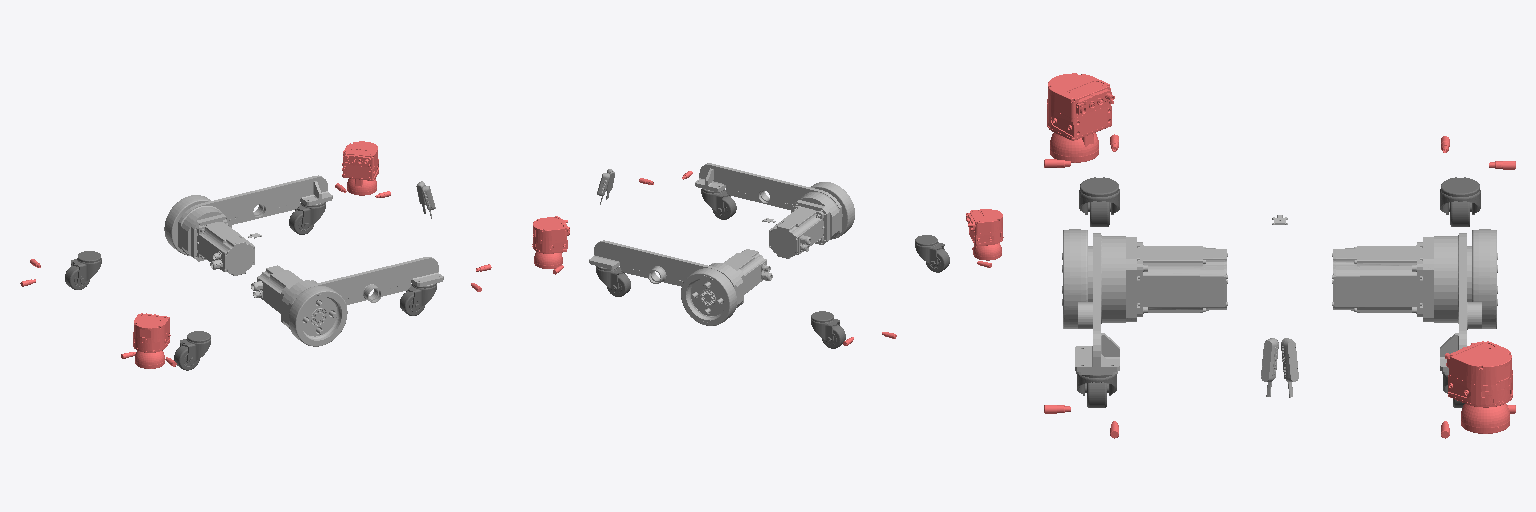
--- What the picture shows (computed from the rendered views, not written in the file) ---
Views: 3 orthographic renders of the robot side by side, from view 1: azimuth 30°, elevation 25°; view 2: azimuth 150°, elevation 25°; view 3: azimuth 270°, elevation 25°.
Robot: smr1000_description — 29 links, 28 joints (2 revolute, 10 continuous, 16 fixed); root link base_link; default pose: all joints at 0.
Links seen in each view (by area): view 1: swing_left_link, swing_right_link, wheel_right_link, lidar_rear_right_link, lidar_front_left_link, wheel_left_link, caster_arm_rear_right_link, caster_arm_rear_left_link; view 2: swing_right_link, swing_left_link, wheel_left_link, lidar_front_left_link, lidar_rear_right_link, wheel_right_link, caster_arm_rear_right_link, caster_arm_rear_left_link; view 3: swing_right_link, swing_left_link, lidar_front_left_link, lidar_rear_right_link, wheel_right_link, wheel_left_link, caster_arm_rear_left_link, caster_arm_rear_right_link, depthcam_front_left_link, depthcam_front_right_link, caster_arm_front_right_link.
Link boxes in pixels (box(x1,y1,x2,y2)): swing_left_link: box(178, 175, 332, 275); swing_right_link: box(251, 257, 443, 328); wheel_right_link: box(289, 286, 347, 346); lidar_rear_right_link: box(133, 313, 170, 368); lidar_front_left_link: box(342, 141, 378, 195); wheel_left_link: box(164, 195, 210, 255); caster_arm_rear_right_link: box(180, 331, 210, 364); caster_arm_rear_left_link: box(71, 251, 101, 284); swing_right_link: box(695, 163, 841, 258); swing_left_link: box(589, 240, 772, 309); wheel_left_link: box(681, 268, 736, 325); lidar_front_left_link: box(532, 216, 569, 268); lidar_rear_right_link: box(966, 209, 1003, 260); wheel_right_link: box(811, 182, 854, 238); caster_arm_rear_right_link: box(915, 235, 944, 266); caster_arm_rear_left_link: box(811, 311, 839, 343); swing_right_link: box(1075, 233, 1227, 374); swing_left_link: box(1332, 233, 1481, 374); lidar_front_left_link: box(1445, 341, 1512, 433); lidar_rear_right_link: box(1047, 73, 1114, 162); wheel_right_link: box(1062, 229, 1087, 328); wheel_left_link: box(1472, 229, 1497, 328); caster_arm_rear_left_link: box(1440, 177, 1480, 214); caster_arm_rear_right_link: box(1079, 177, 1119, 214); depthcam_front_left_link: box(1281, 338, 1298, 397); depthcam_front_right_link: box(1261, 338, 1278, 396); caster_arm_front_right_link: box(1077, 374, 1116, 395).
Size in the robot's own frame: 1.4 by 0.94 by 0.266 metres.
Meshes: 26 distinct files referenced, 25 mesh visuals loaded (25 binary STL); not drawn: 1 (reference not matched to a file when rendering).

URDF robot description (smr1000_description):
<?xml version="1.0" encoding="utf-8"?>
<!-- This URDF was automatically created by SolidWorks to URDF Exporter! Originally created by Stephen Brawner ([email redacted]) 
     Commit Version: 1.6.0-4-g7f85cfe  Build Version: 1.6.7995.38578
     For more information, please see http://wiki.ros.org/sw_urdf_exporter -->
<robot
  name="smr1000_description">
  <link
    name="base_link">
    <inertial>
      <origin
        xyz="-0.0653513068168296 0.00948609134574523 0.175579356834395"
        rpy="0 0 0" />
      <mass
        value="68.6102338369016" />
      <inertia
        ixx="1.00754057887286"
        ixy="0.00041340404807901"
        ixz="0.000216201033298126"
        iyy="3.29228934484251"
        iyz="3.79978600731642E-05"
        izz="4.23027118253916" />
    </inertial>
    <visual>
      <origin
        xyz="0 0 0"
        rpy="0 0 0" />
      <geometry>
        <mesh
          filename="package://smr1000_description/meshes/base_link.STL" />
      </geometry>
      <material
        name="">
        <color
          rgba="0.792156862745098 0.819607843137255 0.933333333333333 1" />
      </material>
    </visual>
    <collision>
      <origin
        xyz="0 0 0"
        rpy="0 0 0" />
      <geometry>
        <mesh
          filename="package://smr1000_description/meshes/base_link.STL" />
      </geometry>
    </collision>
  </link>
  <link
    name="swing_right_link">
    <inertial>
      <origin
        xyz="-0.176347650188863 0.00440389227080025 -0.300793675091469"
        rpy="0 0 0" />
      <mass
        value="25.0168854199356" />
      <inertia
        ixx="0.0682466016837255"
        ixy="-0.00949922807571882"
        ixz="-9.30065521097321E-05"
        iyy="0.172623060051642"
        iyz="-4.59700602586555E-06"
        izz="0.197181082598249" />
    </inertial>
    <visual>
      <origin
        xyz="0 0 0"
        rpy="0 0 0" />
      <geometry>
        <mesh
          filename="package://smr1000_description/meshes/swing_right_link.STL" />
      </geometry>
      <material
        name="">
        <color
          rgba="0.752941176470588 0.752941176470588 0.752941176470588 1" />
      </material>
    </visual>
    <collision>
      <origin
        xyz="0 0 0"
        rpy="0 0 0" />
      <geometry>
        <mesh
          filename="package://smr1000_description/meshes/swing_right_link.STL" />
      </geometry>
    </collision>
  </link>
  <joint
    name="swing_right_joint"
    type="revolute">
    <origin
      xyz="0.22 -0.3799 0.1223"
      rpy="1.5708 0 0" />
    <parent
      link="base_link" />
    <child
      link="swing_right_link" />
    <axis
      xyz="0 0 -1" />
    <limit
      lower="-0.5236"
      upper="0.5236"
      effort="0"
      velocity="0" />
  </joint>
  <link
    name="wheel_right_link">
    <inertial>
      <origin
        xyz="-1.89360408194331E-07 5.32318273128995E-06 -0.00123251961550358"
        rpy="0 0 0" />
      <mass
        value="7.69591298907116" />
      <inertia
        ixx="0.0241713576513514"
        ixy="1.19672901117117E-07"
        ixz="3.40566483541933E-08"
        iyy="0.0241679260711374"
        iyz="-1.02517453763162E-06"
        izz="0.0461678453168516" />
    </inertial>
    <visual>
      <origin
        xyz="0 0 0"
        rpy="0 0 0" />
      <geometry>
        <mesh
          filename="package://smr1000_description/meshes/wheel_right_link.STL" />
      </geometry>
      <material
        name="">
        <color
          rgba="0.752941176470588 0.752941176470588 0.752941176470588 1" />
      </material>
    </visual>
    <collision>
      <origin
        xyz="0 0 0"
        rpy="0 0 0" />
      <geometry>
        <mesh
          filename="package://smr1000_description/meshes/wheel_right_link.STL" />
      </geometry>
    </collision>
  </link>
  <joint
    name="wheel_right_joint"
    type="continuous">
    <origin
      xyz="-0.22 -0.0225 0.0285"
      rpy="0 0 0" />
    <parent
      link="swing_right_link" />
    <child
      link="wheel_right_link" />
    <axis
      xyz="0 0 -1" />
    <limit
      effort="100"
      velocity="20" />
  </joint>
  <link
    name="caster_arm_front_right_link">
    <inertial>
      <origin
        xyz="-0.0155555617039367 -0.000178963669494714 0.0281895860641981"
        rpy="0 0 0" />
      <mass
        value="1.25269802738413" />
      <inertia
        ixx="0.00100221826493282"
        ixy="-4.97387950814633E-08"
        ixz="0.000216362342476403"
        iyy="0.000957690978837859"
        iyz="5.5425881475455E-08"
        izz="0.00123742855747407" />
    </inertial>
    <visual>
      <origin
        xyz="0 0 0"
        rpy="0 0 0" />
      <geometry>
        <mesh
          filename="package://smr1000_description/meshes/caster_arm_front_right_link.STL" />
      </geometry>
      <material
        name="">
        <color
          rgba="0.501960784313725 0.501960784313725 0.501960784313725 1" />
      </material>
    </visual>
    <collision>
      <origin
        xyz="0 0 0"
        rpy="0 0 0" />
      <geometry>
        <mesh
          filename="package://smr1000_description/meshes/caster_arm_front_right_link.STL" />
      </geometry>
    </collision>
  </link>
  <joint
    name="caster_arm_front_right_joint"
    type="continuous">
    <origin
      xyz="0.20999986644946 -0.0138199999999889 -0.0149995745198013"
      rpy="1.57079632679491 0 0" />
    <parent
      link="swing_right_link" />
    <child
      link="caster_arm_front_right_link" />
    <axis
      xyz="0 0 1" />
  </joint>
  <link
    name="caster_wheel_front_right_link">
    <inertial>
      <origin
        xyz="5.22706102568105E-07 -7.27056550867133E-08 -3.43081149989377E-07"
        rpy="0 0 0" />
      <mass
        value="1.44285896681486" />
      <inertia
        ixx="0.000795470204249507"
        ixy="9.7830862267861E-10"
        ixz="1.63526977773804E-08"
        iyy="0.000795524588628693"
        iyz="-2.05415020657229E-09"
        izz="0.00122117998887139" />
    </inertial>
    <visual>
      <origin
        xyz="0 0 0"
        rpy="0 0 0" />
      <geometry>
        <mesh
          filename="package://smr1000_description/meshes/caster_wheel_front_right_link.STL" />
      </geometry>
      <material
        name="">
        <color
          rgba="0.501960784313725 0.501960784313725 0.501960784313725 1" />
      </material>
    </visual>
    <collision>
      <origin
        xyz="0 0 0"
        rpy="0 0 0" />
      <geometry>
        <mesh
          filename="package://smr1000_description/meshes/caster_wheel_front_right_link.STL" />
      </geometry>
    </collision>
  </link>
  <joint
    name="caster_wheel_front_right_joint"
    type="continuous">
    <origin
      xyz="-0.0449998664494292 0 0.0684800000000012"
      rpy="-1.5707963267949 0 0" />
    <parent
      link="caster_arm_front_right_link" />
    <child
      link="caster_wheel_front_right_link" />
    <axis
      xyz="0 0 1" />
  </joint>
  <link
    name="caster_arm_rear_right_link">
    <inertial>
      <origin
        xyz="-0.0155555617039297 -0.000178963669520582 0.0281895860641979"
        rpy="0 0 0" />
      <mass
        value="1.25269802738413" />
      <inertia
        ixx="0.00100221826493282"
        ixy="-4.97387949983293E-08"
        ixz="0.000216362342476399"
        iyy="0.00095769097883786"
        iyz="5.54258818883207E-08"
        izz="0.00123742855747408" />
    </inertial>
    <visual>
      <origin
        xyz="0 0 0"
        rpy="0 0 0" />
      <geometry>
        <mesh
          filename="package://smr1000_description/meshes/caster_arm_rear_right_link.STL" />
      </geometry>
      <material
        name="">
        <color
          rgba="0.501960784313725 0.501960784313725 0.501960784313725 1" />
      </material>
    </visual>
    <collision>
      <origin
        xyz="0 0 0"
        rpy="0 0 0" />
      <geometry>
        <mesh
          filename="package://smr1000_description/meshes/caster_arm_rear_right_link.STL" />
      </geometry>
    </collision>
  </link>
  <joint
    name="caster_arm_rear_right_joint"
    type="continuous">
    <origin
      xyz="-0.425000133550558 -0.360000425480045 0.108280000000031"
      rpy="3.14159265358979 0 0" />
    <parent
      link="base_link" />
    <child
      link="caster_arm_rear_right_link" />
    <axis
      xyz="0 0 1" />
  </joint>
  <link
    name="caster_wheel_rear_right_link">
    <inertial>
      <origin
        xyz="5.22706269046047E-07 -7.27055614602179E-08 -3.43081175468996E-07"
        rpy="0 0 0" />
      <mass
        value="1.44285896681486" />
      <inertia
        ixx="0.00079547020424951"
        ixy="9.78308624551728E-10"
        ixz="1.63526963921423E-08"
        iyy="0.000795524588628698"
        iyz="-2.05415021177103E-09"
        izz="0.0012211799888714" />
    </inertial>
    <visual>
      <origin
        xyz="0 0 0"
        rpy="0 0 0" />
      <geometry>
        <mesh
          filename="package://smr1000_description/meshes/caster_wheel_rear_right_link.STL" />
      </geometry>
      <material
        name="">
        <color
          rgba="0.501960784313725 0.501960784313725 0.501960784313725 1" />
      </material>
    </visual>
    <collision>
      <origin
        xyz="0 0 0"
        rpy="0 0 0" />
      <geometry>
        <mesh
          filename="package://smr1000_description/meshes/caster_wheel_rear_right_link.STL" />
      </geometry>
    </collision>
  </link>
  <joint
    name="caster_wheel_rear_right_joint"
    type="continuous">
    <origin
      xyz="-0.0449998664494387 0 0.0684800000000013"
      rpy="-1.5707963267949 0 0" />
    <parent
      link="caster_arm_rear_right_link" />
    <child
      link="caster_wheel_rear_right_link" />
    <axis
      xyz="0 0 1" />
  </joint>
  <link
    name="swing_left_link">
    <inertial>
      <origin
        xyz="-0.145737324025481 -0.00429423142705054 -0.0146676077458625"
        rpy="0 0 0" />
      <mass
        value="34.2220050178526" />
      <inertia
        ixx="0.0869972530035693"
        ixy="0.0191225202017814"
        ixz="-0.000118555323432275"
        iyy="0.293111035161583"
        iyz="-1.15917243083435E-06"
        izz="0.333894919135107" />
    </inertial>
    <visual>
      <origin
        xyz="0 0 0"
        rpy="0 0 0" />
      <geometry>
        <mesh
          filename="package://smr1000_description/meshes/swing_left_link.STL" />
      </geometry>
      <material
        name="">
        <color
          rgba="0.752941176470588 0.752941176470588 0.752941176470588 1" />
      </material>
    </visual>
    <collision>
      <origin
        xyz="0 0 0"
        rpy="0 0 0" />
      <geometry>
        <mesh
          filename="package://smr1000_description/meshes/swing_left_link.STL" />
      </geometry>
    </collision>
  </link>
  <joint
    name="swing_left_joint"
    type="revolute">
    <origin
      xyz="0.22 0.3799 0.1223"
      rpy="-1.5708 0 0" />
    <parent
      link="base_link" />
    <child
      link="swing_left_link" />
    <axis
      xyz="0 0 1" />
    <limit
      lower="-0.5236"
      upper="0.5236"
      effort="0"
      velocity="0" />
  </joint>
  <link
    name="wheel_left_link">
    <inertial>
      <origin
        xyz="-1.89360408143877E-07 5.32318273170629E-06 -0.00123251961550752"
        rpy="0 0 0" />
      <mass
        value="7.69591298907121" />
      <inertia
        ixx="0.0241713576513516"
        ixy="1.19672901089617E-07"
        ixz="3.40566483462889E-08"
        iyy="0.0241679260711376"
        iyz="-1.02517453763785E-06"
        izz="0.0461678453168519" />
    </inertial>
    <visual>
      <origin
        xyz="0 0 0"
        rpy="0 0 0" />
      <geometry>
        <mesh
          filename="package://smr1000_description/meshes/wheel_left_link.STL" />
      </geometry>
      <material
        name="">
        <color
          rgba="0.752941176470588 0.752941176470588 0.752941176470588 1" />
      </material>
    </visual>
    <collision>
      <origin
        xyz="0 0 0"
        rpy="0 0 0" />
      <geometry>
        <mesh
          filename="package://smr1000_description/meshes/wheel_left_link.STL" />
      </geometry>
    </collision>
  </link>
  <joint
    name="wheel_left_joint"
    type="continuous">
    <origin
      xyz="-0.22 0.0225 0.0285"
      rpy="0 0 3.1416" />
    <parent
      link="swing_left_link" />
    <child
      link="wheel_left_link" />
    <axis
      xyz="0 0 1" />
    <limit
      effort="100"
      velocity="20" />
  </joint>
  <link
    name="caster_arm_front_left_link">
    <inertial>
      <origin
        xyz="-0.015555561703935 -0.000178963669518362 0.0281895860641979"
        rpy="0 0 0" />
      <mass
        value="1.25269802738414" />
      <inertia
        ixx="0.00100221826493283"
        ixy="-4.97387950034294E-08"
        ixz="0.000216362342476401"
        iyy="0.000957690978837865"
        iyz="5.54258818844297E-08"
        izz="0.00123742855747409" />
    </inertial>
    <visual>
      <origin
        xyz="0 0 0"
        rpy="0 0 0" />
      <geometry>
        <mesh
          filename="package://smr1000_description/meshes/caster_arm_front_left_link.STL" />
      </geometry>
      <material
        name="">
        <color
          rgba="0.501960784313725 0.501960784313725 0.501960784313725 1" />
      </material>
    </visual>
    <collision>
      <origin
        xyz="0 0 0"
        rpy="0 0 0" />
      <geometry>
        <mesh
          filename="package://smr1000_description/meshes/caster_arm_front_left_link.STL" />
      </geometry>
    </collision>
  </link>
  <joint
    name="caster_arm_front_left_joint"
    type="continuous">
    <origin
      xyz="0.209999866449287 0.0138200000000299 -0.0150004254799135"
      rpy="-1.5707963267949 0 0" />
    <parent
      link="swing_left_link" />
    <child
      link="caster_arm_front_left_link" />
    <axis
      xyz="0 0 1" />
  </joint>
  <link
    name="caster_wheel_front_left_link">
    <inertial>
      <origin
        xyz="5.2271126804726E-07 -7.27069870490316E-08 -3.43084268550342E-07"
        rpy="0 0 0" />
      <mass
        value="1.4428589671169" />
      <inertia
        ixx="0.000795470204330061"
        ixy="9.78362437129432E-10"
        ixz="1.63333455961673E-08"
        iyy="0.000795524588877612"
        iyz="-2.05418336631313E-09"
        izz="0.00122117998906056" />
    </inertial>
    <visual>
      <origin
        xyz="0 0 0"
        rpy="0 0 0" />
      <geometry>
        <mesh
          filename="package://smr1000_description/meshes/caster_wheel_front_left_link.STL" />
      </geometry>
      <material
        name="">
        <color
          rgba="0.501960784313725 0.501960784313725 0.501960784313725 1" />
      </material>
    </visual>
    <collision>
      <origin
        xyz="0 0 0"
        rpy="0 0 0" />
      <geometry>
        <mesh
          filename="package://smr1000_description/meshes/caster_wheel_front_left_link.STL" />
      </geometry>
    </collision>
  </link>
  <joint
    name="caster_wheel_front_left_joint"
    type="continuous">
    <origin
      xyz="-0.0449998664494246 0 0.0684800000000196"
      rpy="-1.5707963267949 0 0" />
    <parent
      link="caster_arm_front_left_link" />
    <child
      link="caster_wheel_front_left_link" />
    <axis
      xyz="0 0 0.999999999999999" />
  </joint>
  <link
    name="caster_arm_rear_left_link">
    <inertial>
      <origin
        xyz="-0.0155555617039362 -0.000178963669523857 0.0281895860641979"
        rpy="0 0 0" />
      <mass
        value="1.25269802738414" />
      <inertia
        ixx="0.00100221826493283"
        ixy="-4.97387949996866E-08"
        ixz="0.000216362342476401"
        iyy="0.000957690978837868"
        iyz="5.54258818845771E-08"
        izz="0.00123742855747409" />
    </inertial>
    <visual>
      <origin
        xyz="0 0 0"
        rpy="0 0 0" />
      <geometry>
        <mesh
          filename="package://smr1000_description/meshes/caster_arm_rear_left_link.STL" />
      </geometry>
      <material
        name="">
        <color
          rgba="0.501960784313725 0.501960784313725 0.501960784313725 1" />
      </material>
    </visual>
    <collision>
      <origin
        xyz="0 0 0"
        rpy="0 0 0" />
      <geometry>
        <mesh
          filename="package://smr1000_description/meshes/caster_arm_rear_left_link.STL" />
      </geometry>
    </collision>
  </link>
  <joint
    name="caster_arm_rear_left_joint"
    type="continuous">
    <origin
      xyz="-0.425 0.36 0.10828"
      rpy="3.1416 0 0" />
    <parent
      link="base_link" />
    <child
      link="caster_arm_rear_left_link" />
    <axis
      xyz="0 0 1" />
  </joint>
  <link
    name="caster_wheel_rear_left_link">
    <inertial>
      <origin
        xyz="5.22706270988937E-07 -7.2705561453279E-08 -3.43081178744153E-07"
        rpy="0 0 0" />
      <mass
        value="1.44285896681486" />
      <inertia
        ixx="0.00079547020424951"
        ixy="9.78308624271734E-10"
        ixz="1.63526963933961E-08"
        iyy="0.000795524588628699"
        iyz="-2.05415021156819E-09"
        izz="0.0012211799888714" />
    </inertial>
    <visual>
      <origin
        xyz="0 0 0"
        rpy="0 0 0" />
      <geometry>
        <mesh
          filename="package://smr1000_description/meshes/caster_wheel_rear_left_link.STL" />
      </geometry>
      <material
        name="">
        <color
          rgba="0.501960784313725 0.501960784313725 0.501960784313725 1" />
      </material>
    </visual>
    <collision>
      <origin
        xyz="0 0 0"
        rpy="0 0 0" />
      <geometry>
        <mesh
          filename="package://smr1000_description/meshes/caster_wheel_rear_left_link.STL" />
      </geometry>
    </collision>
  </link>
  <joint
    name="caster_wheel_rear_left_joint"
    type="continuous">
    <origin
      xyz="-0.0449998664491558 0 0.0682800000000365"
      rpy="-1.5707963267949 0 0" />
    <parent
      link="caster_arm_rear_left_link" />
    <child
      link="caster_wheel_rear_left_link" />
    <axis
      xyz="0 0 1" />
  </joint>
  <link
    name="imu_mount_point_link">
    <inertial>
      <origin
        xyz="-0.00366346362566691 4.70438937990503E-18 0.0015"
        rpy="0 0 0" />
      <mass
        value="0.0191449557316286" />
      <inertia
        ixx="1.03105094962783E-06"
        ixy="1.48004796281085E-22"
        ixz="-1.35200558106493E-24"
        iyy="1.06001917810793E-06"
        iyz="-5.99321577353147E-24"
        izz="2.0625376554058E-06" />
    </inertial>
    <visual>
      <origin
        xyz="0 0 0"
        rpy="0 0 0" />
      <geometry>
        <mesh
          filename="package://smr1000_description/meshes/imu_mount_point_link.STL" />
      </geometry>
      <material
        name="">
        <color
          rgba="0.792156862745098 0.792156862745098 0.792156862745098 1" />
      </material>
    </visual>
    <collision>
      <origin
        xyz="0 0 0"
        rpy="0 0 0" />
      <geometry>
        <mesh
          filename="package://smr1000_description/meshes/imu_mount_point_link.STL" />
      </geometry>
    </collision>
  </link>
  <joint
    name="imu_mount_point_joint"
    type="fixed">
    <origin
      xyz="0 0 0.2263"
      rpy="0 0 0" />
    <parent
      link="base_link" />
    <child
      link="imu_mount_point_link" />
    <axis
      xyz="0 0 0" />
  </joint>
  <link
    name="lidar_front_left_link">
    <inertial>
      <origin
        xyz="-0.00377362004536375 2.31306614323357E-05 -0.0414763691510298"
        rpy="0 0 0" />
      <mass
        value="10.0983088016372" />
      <inertia
        ixx="0.0243292329693736"
        ixy="-3.09919812669073E-06"
        ixz="0.000468083181899324"
        iyy="0.0235663383506721"
        iyz="1.87770443375014E-06"
        izz="0.0145919886558837" />
    </inertial>
    <visual>
      <origin
        xyz="0 0 0"
        rpy="0 0 0" />
      <geometry>
        <mesh
          filename="package://smr1000_description/meshes/lidar_front_left_link.STL" />
      </geometry>
      <material
        name="">
        <color
          rgba="1 0.501960784313725 0.501960784313725 1" />
      </material>
    </visual>
    <collision>
      <origin
        xyz="0 0 0"
        rpy="0 0 0" />
      <geometry>
        <mesh
          filename="package://smr1000_description/meshes/lidar_front_left_link.STL" />
      </geometry>
    </collision>
  </link>
  <joint
    name="lidar_front_left_joint"
    type="fixed">
    <origin
      xyz="0.63989 0.41011 0.1198"
      rpy="-3.1416 0 0.7854" />
    <parent
      link="base_link" />
    <child
      link="lidar_front_left_link" />
    <axis
      xyz="0 0 0" />
  </joint>
  <link
    name="lidar_rear_right_link">
    <inertial>
      <origin
        xyz="-0.00377362130663683 2.31306166637579E-05 -0.0414763701929062"
        rpy="0 0 0" />
      <mass
        value="10.0983090366446" />
      <inertia
        ixx="0.0243292330596011"
        ixy="-3.09920536514796E-06"
        ixz="0.000468083190282274"
        iyy="0.0235663383727439"
        iyz="1.87773510402846E-06"
        izz="0.0145919887338157" />
    </inertial>
    <visual>
      <origin
        xyz="0 0 0"
        rpy="0 0 0" />
      <geometry>
        <mesh
          filename="package://smr1000_description/meshes/lidar_rear_right_link.STL" />
      </geometry>
      <material
        name="">
        <color
          rgba="1 0.501960784313725 0.501960784313725 1" />
      </material>
    </visual>
    <collision>
      <origin
        xyz="0 0 0"
        rpy="0 0 0" />
      <geometry>
        <mesh
          filename="package://smr1000_description/meshes/lidar_rear_right_link.STL" />
      </geometry>
    </collision>
  </link>
  <joint
    name="lidar_rear_right_joint"
    type="fixed">
    <origin
      xyz="-0.6399 -0.41011 0.1198"
      rpy="-3.1416 0 -2.3906" />
    <parent
      link="base_link" />
    <child
      link="lidar_rear_right_link" />
    <axis
      xyz="0 0 0" />
  </joint>
  <link
    name="depthcam_front_right_link">
    <inertial>
      <origin
        xyz="0.00129156660960061 -0.000225188275228549 0.0124773964669809"
        rpy="0 0 0" />
      <mass
        value="0.0375455004175735" />
      <inertia
        ixx="2.35547052251239E-05"
        ixy="2.10677706877401E-07"
        ixz="1.01532427492793E-08"
        iyy="3.51383162343571E-06"
        iyz="1.73092061435004E-09"
        izz="2.37573063309254E-05" />
    </inertial>
    <visual>
      <origin
        xyz="0 0 0"
        rpy="0 0 0" />
      <geometry>
        <mesh
          filename="package://smr1000_description/meshes/depthcam_front_right_link.STL" />
      </geometry>
      <material
        name="">
        <color
          rgba="0.701960784313725 0.701960784313725 0.701960784313725 1" />
      </material>
    </visual>
    <collision>
      <origin
        xyz="0 0 0"
        rpy="0 0 0" />
      <geometry>
        <mesh
          filename="package://smr1000_description/meshes/depthcam_front_right_link.STL" />
      </geometry>
    </collision>
  </link>
  <joint
    name="depth_cam_front_right_mount_point_joint"
    type="fixed">
    <origin
      xyz="0.64905 -0.0086345 0.22192"
      rpy="1.6224 -0.25484 -0.5779" />
    <parent
      link="base_link" />
    <child
      link="depthcam_front_right_link" />
    <axis
      xyz="0 0 0" />
  </joint>
  <link
    name="depthcam_front_left_link">
    <inertial>
      <origin
        xyz="0.00129157634096388 -0.000225205852197596 0.0124773728078798"
        rpy="0 0 0" />
      <mass
        value="0.0375455045895058" />
      <inertia
        ixx="2.35547247200499E-05"
        ixy="2.10674673662915E-07"
        ixz="1.01543396749311E-08"
        iyy="3.51384314444005E-06"
        iyz="1.73013361251296E-09"
        izz="2.37573138571017E-05" />
    </inertial>
    <visual>
      <origin
        xyz="0 0 0"
        rpy="0 0 0" />
      <geometry>
        <mesh
          filename="package://smr1000_description/meshes/depthcam_front_left_link.STL" />
      </geometry>
      <material
        name="">
        <color
          rgba="0.701960784313725 0.701960784313725 0.701960784313725 1" />
      </material>
    </visual>
    <collision>
      <origin
        xyz="0 0 0"
        rpy="0 0 0" />
      <geometry>
        <mesh
          filename="package://smr1000_description/meshes/depthcam_front_left_link.STL" />
      </geometry>
    </collision>
  </link>
  <joint
    name="depth_cam_front_left_mount_point_joint"
    type="fixed">
    <origin
      xyz="0.63595 0.02931 0.2207"
      rpy="1.5191 -0.25484 0.5779" />
    <parent
      link="base_link" />
    <child
      link="depthcam_front_left_link" />
    <axis
      xyz="0 0 0" />
  </joint>
  <link
    name="ultrasonic_front_side_left_link">
    <inertial>
      <origin
        xyz="-0.0215388993520396 1.16554112161715E-06 5.30745762339357E-08"
        rpy="0 0 0" />
      <mass
        value="0.0282740091678654" />
      <inertia
        ixx="1.04081238975484E-06"
        ixy="8.52837943094571E-10"
        ixz="8.66889256101528E-11"
        iyy="5.34668466071901E-06"
        iyz="-1.0320017840319E-10"
        izz="5.34689161660492E-06" />
    </inertial>
    <visual>
      <origin
        xyz="0 0 0"
        rpy="0 0 0" />
      <geometry>
        <mesh
          filename="package://smr1000_description/meshes/ultrasonic_front_side_left_link.STL" />
      </geometry>
      <material
        name="">
        <color
          rgba="1 0.501960784313725 0.501960784313725 1" />
      </material>
    </visual>
    <collision>
      <origin
        xyz="0 0 0"
        rpy="0 0 0" />
      <geometry>
        <mesh
          filename="package://smr1000_description/meshes/ultrasonic_front_side_left_link.STL" />
      </geometry>
    </collision>
  </link>
  <joint
    name="ultrasonic_front_side_left_joint"
    type="fixed">
    <origin
      xyz="0.58 0.47 0.0843"
      rpy="0 0 1.5708" />
    <parent
      link="base_link" />
    <child
      link="ultrasonic_front_side_left_link" />
    <axis
      xyz="0 0 0" />
  </joint>
  <link
    name="ultrasonic_front_left_link">
    <inertial>
      <origin
        xyz="-0.0215388993976965 5.46124688804994E-08 -1.16546995329592E-06"
        rpy="0 0 0" />
      <mass
        value="0.0282740092539146" />
      <inertia
        ixx="1.04081239493512E-06"
        ixy="8.78070829314884E-11"
        ixz="-8.52724102688024E-10"
        iyy="5.34689136814173E-06"
        iyz="1.03468053244033E-10"
        izz="5.34668495428624E-06" />
    </inertial>
    <visual>
      <origin
        xyz="0 0 0"
        rpy="0 0 0" />
      <geometry>
        <mesh
          filename="package://smr1000_description/meshes/ultrasonic_front_left_link.STL" />
      </geometry>
      <material
        name="">
        <color
          rgba="1 0.501960784313725 0.501960784313725 1" />
      </material>
    </visual>
    <collision>
      <origin
        xyz="0 0 0"
        rpy="0 0 0" />
      <geometry>
        <mesh
          filename="package://smr1000_description/meshes/ultrasonic_front_left_link.STL" />
      </geometry>
    </collision>
  </link>
  <joint
    name="ultrasonic_front_left_joint"
    type="fixed">
    <origin
      xyz="0.7 0.33 0.0843"
      rpy="0 0 0" />
    <parent
      link="base_link" />
    <child
      link="ultrasonic_front_left_link" />
    <axis
      xyz="0 0 0" />
  </joint>
  <link
    name="ultrasonic_front_right_link">
    <inertial>
      <origin
        xyz="-0.0215388993976957 5.46124687694771E-08 -1.16546995325428E-06"
        rpy="0 0 0" />
      <mass
        value="0.0282740092539146" />
      <inertia
        ixx="1.04081239493512E-06"
        ixy="8.7807082929679E-11"
        ixz="-8.5272410268927E-10"
        iyy="5.34689136814173E-06"
        iyz="1.03468053243951E-10"
        izz="5.34668495428624E-06" />
    </inertial>
    <visual>
      <origin
        xyz="0 0 0"
        rpy="0 0 0" />
      <geometry>
        <mesh
          filename="package://smr1000_description/meshes/ultrasonic_front_right_link.STL" />
      </geometry>
      <material
        name="">
        <color
          rgba="1 0.501960784313725 0.501960784313725 1" />
      </material>
    </visual>
    <collision>
      <origin
        xyz="0 0 0"
        rpy="0 0 0" />
      <geometry>
        <mesh
          filename="package://smr1000_description/meshes/ultrasonic_front_right_link.STL" />
      </geometry>
    </collision>
  </link>
  <joint
    name="ultrasonic_front_right_joint"
    type="fixed">
    <origin
      xyz="0.7 -0.33 0.0843"
      rpy="0 0 0" />
    <parent
      link="base_link" />
    <child
      link="ultrasonic_front_right_link" />
    <axis
      xyz="0 0 0" />
  </joint>
  <link
    name="ultrasonic_front_right_side_link">
    <inertial>
      <origin
        xyz="-0.021538899397696 8.63126642935974E-07 -7.85057406971212E-07"
        rpy="0 0 0" />
      <mass
        value="0.0282740092539145" />
      <inertia
        ixx="1.04081239493512E-06"
        ixy="6.65330086919852E-10"
        ixz="-5.40540798230751E-10"
        iyy="5.3466845885743E-06"
        iyz="1.03101970364321E-10"
        izz="5.3468917338536E-06" />
    </inertial>
    <visual>
      <origin
        xyz="0 0 0"
        rpy="0 0 0" />
      <geometry>
        <mesh
          filename="package://smr1000_description/meshes/ultrasonic_front_right_side_link.STL" />
      </geometry>
      <material
        name="">
        <color
          rgba="1 0.501960784313725 0.501960784313725 1" />
      </material>
    </visual>
    <collision>
      <origin
        xyz="0 0 0"
        rpy="0 0 0" />
      <geometry>
        <mesh
          filename="package://smr1000_description/meshes/ultrasonic_front_right_side_link.STL" />
      </geometry>
    </collision>
  </link>
  <joint
    name="ultrasonic_front_right_side_joint"
    type="fixed">
    <origin
      xyz="0.58 -0.47 0.0843"
      rpy="0 0 -1.5708" />
    <parent
      link="base_link" />
    <child
      link="ultrasonic_front_right_side_link" />
    <axis
      xyz="0 0 0" />
  </joint>
  <link
    name="ultrasonic_rear_right_side_link">
    <inertial>
      <origin
        xyz="-0.021538899397696 8.63126642491885E-07 -7.85057407123868E-07"
        rpy="0 0 0" />
      <mass
        value="0.0282740092539145" />
      <inertia
        ixx="1.04081239493512E-06"
        ixy="6.65330086918126E-10"
        ixz="-5.40540798235194E-10"
        iyy="5.3466845885743E-06"
        iyz="1.03101970363733E-10"
        izz="5.3468917338536E-06" />
    </inertial>
    <visual>
      <origin
        xyz="0 0 0"
        rpy="0 0 0" />
      <geometry>
        <mesh
          filename="package://smr1000_description/meshes/ultrasonic_rear_right_side_link.STL" />
      </geometry>
      <material
        name="">
        <color
          rgba="1 0.501960784313725 0.501960784313725 1" />
      </material>
    </visual>
    <collision>
      <origin
        xyz="0 0 0"
        rpy="0 0 0" />
      <geometry>
        <mesh
          filename="package://smr1000_description/meshes/ultrasonic_rear_right_side_link.STL" />
      </geometry>
    </collision>
  </link>
  <joint
    name="ultrasonic_rear_right_side_joint"
    type="fixed">
    <origin
      xyz="-0.58 -0.47 0.0843"
      rpy="0 0 -1.5708" />
    <parent
      link="base_link" />
    <child
      link="ultrasonic_rear_right_side_link" />
    <axis
      xyz="0 0 0" />
  </joint>
  <link
    name="ultrasonic_rear_right_link">
    <inertial>
      <origin
        xyz="-0.0215388993520402 -7.86195710700266E-07 -8.62090089079337E-07"
        rpy="0 0 0" />
      <mass
        value="0.0282740091678654" />
      <inertia
        ixx="1.04081238975484E-06"
        ixy="-5.41412312078863E-10"
        ixz="-6.64620369337873E-10"
        iyy="5.34689144370168E-06"
        iyz="-1.03373257032144E-10"
        izz="5.34668483362224E-06" />
    </inertial>
    <visual>
      <origin
        xyz="0 0 0"
        rpy="0 0 0" />
      <geometry>
        <mesh
          filename="package://smr1000_description/meshes/ultrasonic_rear_right_link.STL" />
      </geometry>
      <material
        name="">
        <color
          rgba="1 0.501960784313725 0.501960784313725 1" />
      </material>
    </visual>
    <collision>
      <origin
        xyz="0 0 0"
        rpy="0 0 0" />
      <geometry>
        <mesh
          filename="package://smr1000_description/meshes/ultrasonic_rear_right_link.STL" />
      </geometry>
    </collision>
  </link>
  <joint
    name="ultrasonic_rear_right_joint"
    type="fixed">
    <origin
      xyz="-0.7 -0.33 0.0843"
      rpy="0 0 3.1416" />
    <parent
      link="base_link" />
    <child
      link="ultrasonic_rear_right_link" />
    <axis
      xyz="0 0 0" />
  </joint>
  <link
    name="ultrasonic_rear_left_link">
    <inertial>
      <origin
        xyz="-0.0215389016273483 -7.85445424866804E-07 -8.6235180102312E-07"
        rpy="0 0 0" />
      <mass
        value="0.0282740133510415" />
      <inertia
        ixx="1.04081251803691E-06"
        ixy="-5.41070441240048E-10"
        ixz="-6.64739216915381E-10"
        iyy="5.34689247838743E-06"
        iyz="-1.03333939118133E-10"
        izz="5.34668596804642E-06" />
    </inertial>
    <visual>
      <origin
        xyz="0 0 0"
        rpy="0 0 0" />
      <geometry>
        <mesh
          filename="package://smr1000_description/meshes/ultrasonic_rear_left_link.STL" />
      </geometry>
      <material
        name="">
        <color
          rgba="1 0.501960784313725 0.501960784313725 1" />
      </material>
    </visual>
    <collision>
      <origin
        xyz="0 0 0"
        rpy="0 0 0" />
      <geometry>
        <mesh
          filename="package://smr1000_description/meshes/ultrasonic_rear_left_link.STL" />
      </geometry>
    </collision>
  </link>
  <joint
    name="ultrasonic_rear_left_joint"
    type="fixed">
    <origin
      xyz="-0.7 0.33 0.0808"
      rpy="0 0 -3.1416" />
    <parent
      link="base_link" />
    <child
      link="ultrasonic_rear_left_link" />
    <axis
      xyz="0 0 0" />
  </joint>
  <link
    name="ultrasonic_rear_left_side_link">
    <inertial>
      <origin
        xyz="-0.0215388993973044 -3.95983975387537E-07 -1.09749723893604E-06"
        rpy="0 0 0" />
      <mass
        value="0.0282740092531792" />
      <inertia
        ixx="1.04081239535758E-06"
        ixy="-2.45524785360508E-10"
        ixz="-8.21319887680717E-10"
        iyy="5.34693430246721E-06"
        iyz="6.91239388246022E-14"
        izz="5.34664202004202E-06" />
    </inertial>
    <visual>
      <origin
        xyz="0 0 0"
        rpy="0 0 0" />
      <geometry>
        <mesh
          filename="package://smr1000_description/meshes/ultrasonic_rear_left_side_link.STL" />
      </geometry>
      <material
        name="">
        <color
          rgba="1 0.501960784313725 0.501960784313725 1" />
      </material>
    </visual>
    <collision>
      <origin
        xyz="0 0 0"
        rpy="0 0 0" />
      <geometry>
        <mesh
          filename="package://smr1000_description/meshes/ultrasonic_rear_left_side_link.STL" />
      </geometry>
    </collision>
  </link>
  <joint
    name="ultrasonic_rear_left_side_joint"
    type="fixed">
    <origin
      xyz="-0.580000000000014 0.47 0.0808000000000311"
      rpy="0 0 1.5707963267949" />
    <parent
      link="base_link" />
    <child
      link="ultrasonic_rear_left_side_link" />
    <axis
      xyz="0 0 0" />
  </joint>
  
  <!-- '''mu''' is the Coulomb friction coefficient for the first friction direction, and
       '''mu2''' is the friction coefficient for the second friction direction (perpendicular to the first friction direction). -->

  <gazebo reference="wheel_left_link">
    <surface>
        <friction>
          <ode>
            <mu>10000000.01</mu>
            <mu2>10000000.01</mu2>
            <fdir1>0 0 1</fdir1>
            <slip1>100</slip1>
            <slip2>100</slip2>
          </ode>
        </friction>
        <bounce>
          <restitution_coefficient>0.0</restitution_coefficient>
          <threshold>[number redacted]</threshold>
        </bounce>
        <contact>
          <ode>
            <soft_cfm>0.00001</soft_cfm>
            <soft_erp>0.2</soft_erp>
            <kp>100000000.0</kp>
            <kd>10.0</kd>
            <max_vel>100.0</max_vel>
            <min_depth>0.001</min_depth>
          </ode>
        </contact>
    </surface>
  </gazebo>

  <gazebo reference="wheel_right_link">
    <surface>
        <friction>
          <ode>
            <mu>10000000.01</mu>
            <mu2>10000000.01</mu2>
            <fdir1>0 0 1</fdir1>
            <slip1>100</slip1>
            <slip2>100</slip2>
          </ode>
        </friction>
        <bounce>
          <restitution_coefficient>0.0</restitution_coefficient>
          <threshold>[number redacted]</threshold>
        </bounce>
        <contact>
          <ode>
            <soft_cfm>0.00001</soft_cfm>
            <soft_erp>0.2</soft_erp>
            <kp>100000000.0</kp>
            <kd>10.0</kd>
            <max_vel>100.0</max_vel>
            <min_depth>0.001</min_depth>
          </ode>
        </contact>
    </surface>
  </gazebo>

  <gazebo reference="caster_wheel_front_left_link">
    <surface>
        <friction>
          <ode>
            <mu>10000000.01</mu>
            <mu2>10000000.01</mu2>
            <fdir1>0 0 1</fdir1>
            <slip1>100</slip1>
            <slip2>100</slip2>
          </ode>
        </friction>
        <bounce>
          <restitution_coefficient>0.0</restitution_coefficient>
          <threshold>[number redacted]</threshold>
        </bounce>
        <contact>
          <ode>
            <soft_cfm>0.00001</soft_cfm>
            <soft_erp>0.2</soft_erp>
            <kp>100000000.0</kp>
            <kd>10.0</kd>
            <max_vel>100.0</max_vel>
            <min_depth>0.001</min_depth>
          </ode>
        </contact>
    </surface>
  </gazebo>

  <gazebo reference="caster_wheel_front_right_link">
    <surface>
        <friction>
          <ode>
            <mu>10000000.01</mu>
            <mu2>10000000.01</mu2>
            <fdir1>0 0 1</fdir1>
            <slip1>100</slip1>
            <slip2>100</slip2>
          </ode>
        </friction>
        <bounce>
          <restitution_coefficient>0.0</restitution_coefficient>
          <threshold>[number redacted]</threshold>
        </bounce>
        <contact>
          <ode>
            <soft_cfm>0.00001</soft_cfm>
            <soft_erp>0.2</soft_erp>
            <kp>100000000.0</kp>
            <kd>10.0</kd>
            <max_vel>100.0</max_vel>
            <min_depth>0.001</min_depth>
          </ode>
        </contact>
    </surface>
  </gazebo>

  <gazebo reference="caster_wheel_rear_left_link">
    <surface>
        <friction>
          <ode>
            <mu>10000000.01</mu>
            <mu2>10000000.01</mu2>
            <fdir1>0 0 1</fdir1>
            <slip1>100</slip1>
            <slip2>100</slip2>
          </ode>
        </friction>
        <bounce>
          <restitution_coefficient>0.0</restitution_coefficient>
          <threshold>[number redacted]</threshold>
        </bounce>
        <contact>
          <ode>
            <soft_cfm>0.00001</soft_cfm>
            <soft_erp>0.2</soft_erp>
            <kp>100000000.0</kp>
            <kd>10.0</kd>
            <max_vel>100.0</max_vel>
            <min_depth>0.001</min_depth>
          </ode>
        </contact>
    </surface>
  </gazebo>

  <gazebo reference="caster_wheel_rear_right_link">
    <surface>
        <friction>
          <ode>
            <mu>10000000.01</mu>
            <mu2>10000000.01</mu2>
            <fdir1>0 0 1</fdir1>
            <slip1>100</slip1>
            <slip2>100</slip2>
          </ode>
        </friction>
        <bounce>
          <restitution_coefficient>0.0</restitution_coefficient>
          <threshold>[number redacted]</threshold>
        </bounce>
        <contact>
          <ode>
            <soft_cfm>0.00001</soft_cfm>
            <soft_erp>0.2</soft_erp>
            <kp>100000000.0</kp>
            <kd>10.0</kd>
            <max_vel>100.0</max_vel>
            <min_depth>0.001</min_depth>
          </ode>
        </contact>
    </surface>
  </gazebo>

  <gazebo reference="caster_front_left_link">
    <surface>
        <friction>
          <ode>
            <mu>10000000.01</mu>
            <mu2>10000000.01</mu2>
            <fdir1>0 0 1</fdir1>
            <slip1>100</slip1>
            <slip2>100</slip2>
          </ode>
        </friction>
        <bounce>
          <restitution_coefficient>0.0</restitution_coefficient>
          <threshold>[number redacted]</threshold>
        </bounce>
        <contact>
          <ode>
            <soft_cfm>0.00001</soft_cfm>
            <soft_erp>0.2</soft_erp>
            <kp>100000000.0</kp>
            <kd>10.0</kd>
            <max_vel>100.0</max_vel>
            <min_depth>0.001</min_depth>
          </ode>
        </contact>
    </surface>
  </gazebo>

  <gazebo reference="caster_front_right_link">
    <surface>
        <friction>
          <ode>
            <mu>10000000.01</mu>
            <mu2>10000000.01</mu2>
            <fdir1>0 0 1</fdir1>
            <slip1>100</slip1>
            <slip2>100</slip2>
          </ode>
        </friction>
        <bounce>
          <restitution_coefficient>0.0</restitution_coefficient>
          <threshold>[number redacted]</threshold>
        </bounce>
        <contact>
          <ode>
            <soft_cfm>0.00001</soft_cfm>
            <soft_erp>0.2</soft_erp>
            <kp>100000000.0</kp>
            <kd>10.0</kd>
            <max_vel>100.0</max_vel>
            <min_depth>0.001</min_depth>
          </ode>
        </contact>
    </surface>
  </gazebo>

  <gazebo reference="caster_rear_left_link">
    <surface>
        <friction>
          <ode>
            <mu>10000000.01</mu>
            <mu2>10000000.01</mu2>
            <fdir1>0 0 1</fdir1>
            <slip1>100</slip1>
            <slip2>100</slip2>
          </ode>
        </friction>
        <bounce>
          <restitution_coefficient>0.0</restitution_coefficient>
          <threshold>[number redacted]</threshold>
        </bounce>
        <contact>
          <ode>
            <soft_cfm>0.00001</soft_cfm>
            <soft_erp>0.2</soft_erp>
            <kp>100000000.0</kp>
            <kd>10.0</kd>
            <max_vel>100.0</max_vel>
            <min_depth>0.001</min_depth>
          </ode>
        </contact>
    </surface>
  </gazebo>

  <gazebo reference="caster_rear_right_link">
    <surface>
        <friction>
          <ode>
            <mu>10000000.01</mu>
            <mu2>10000000.01</mu2>
            <fdir1>0 0 1</fdir1>
            <slip1>100</slip1>
            <slip2>100</slip2>
          </ode>
        </friction>
        <bounce>
          <restitution_coefficient>0.0</restitution_coefficient>
          <threshold>[number redacted]</threshold>
        </bounce>
        <contact>
          <ode>
            <soft_cfm>0.00001</soft_cfm>
            <soft_erp>0.2</soft_erp>
            <kp>100000000.0</kp>
            <kd>10.0</kd>
            <max_vel>100.0</max_vel>
            <min_depth>0.001</min_depth>
          </ode>
        </contact>
    </surface>
  </gazebo>

<gazebo>
    <plugin name="differential_drive_controller" filename="libgazebo_ros_diff_drive.so">

      <rosDebugLevel>1</rosDebugLevel>

      <!-- Plugin update rate in Hz -->
      <updateRate>40</updateRate>

      <publishTf>true</publishTf>

      <!-- Name of left joint, defaults to `left_joint` -->
      <leftJoint>wheel_left_joint</leftJoint>

      <!-- Name of right joint, defaults to `right_joint` -->
      <rightJoint>wheel_right_joint</rightJoint>

      <!-- The distance from the center of one wheel to the other, in meters, defaults to 0.34 m -->
      <wheelSeparation>0.816.8</wheelSeparation>

      <!-- Diameter of the wheels, in meters, defaults to 0.15 m -->
      <wheelDiameter>0.1996</wheelDiameter>

      <!-- Wheel acceleration, in rad/s^2, defaults to 0.0 rad/s^2 -->
      <wheelAcceleration>1.0</wheelAcceleration>

      <!-- Maximum torque which the wheels can produce, in Nm, defaults to 5 Nm -->
      <wheelTorque>500.0</wheelTorque>

      <!-- Topic to receive geometry_msgs/Twist message commands, defaults to `cmd_vel` -->
      <commandTopic>cmd_vel</commandTopic>

      <!-- Topic to publish nav_msgs/Odometry messages, defaults to `odom` -->
      <odometryTopic>odom</odometryTopic>

      <!-- Odometry frame, defaults to `odom` -->
      <odometryFrame>odom</odometryFrame>

      <publishOdomTF>true</publishOdomTF>

      <odometrySource>world</odometrySource>

      <!-- Robot frame to calculate odometry from, defaults to `base_footprint` -->
      <robotBaseFrame>base_footprint</robotBaseFrame>

      <!-- Odometry source, 0 for ENCODER, 1 for WORLD, defaults to WORLD -->
      <odometrySource>world</odometrySource>

      <!-- Set to true to publish transforms for the wheel links, defaults to false -->
      <publishWheelTF>false</publishWheelTF>

      <!-- Set to true to publish transforms for the odometry, defaults to true -->
      <publishOdom>true</publishOdom>

      <!-- Set to true to publish sensor_msgs/JointState on /joint_states for the wheel joints, defaults to false -->
      <publishWheelJointState>true</publishWheelJointState>

      <!-- Set to true to swap right and left wheels, defaults to true -->
      <legacyMode>false</legacyMode>
    </plugin>
  </gazebo>

  <link name="lidar_merged_link"/>

  <joint name="base_link_to_lidar_merged_link" type="fixed">
    <parent link="base_link"/>
    <child link="lidar_merged_link"/>
    <origin xyz="0.0 0.0 0.1198" rpy="0 0 0"/>
  </joint>     

  <!-- Front LiDAR SICK Microscan MICS3-AAAZ55AZ1P01 -->
  <gazebo reference="lidar_front_left_link">
    <sensor type="gpu_ray" name="lidar_front_sensor">
      <pose>0 0 0 0 0 0</pose>
      <visualize>true</visualize>
      <update_rate>40</update_rate>
      <ray>
        <scan>
          <horizontal>
            <samples>923</samples>        <!-- 360 / 0.39 -->
            <resolution>0.39</resolution> <!-- 0.39 deg = 0.0068067840828 rad -->
            <min_angle>-2.3</min_angle>
            <max_angle>2.3</max_angle>
          </horizontal>
        </scan>
        <range>
          <min>0.05</min>
          <max>40.0</max> <!-- white object -->
          <resolution>0.05</resolution> <!-- 0.03, 0.04, 0.05, 0.07, 0.15, 0.20 [mm] -->
        </range>
        <noise>
          <type>gaussian</type>
          <!-- Noise parameters based on published spec for Hokuyo laser
               achieving "+-30mm" accuracy at range < 10m.  A mean of 0.0m and
               stddev of 0.01m will put 99.7% of samples within 0.03m of the true
               reading. -->
          <mean>0.0</mean>
          <stddev>0.01</stddev>
        </noise>
      </ray>
      <plugin name="gazebo_ros_lidar_front_controller" filename="libgazebo_ros_gpu_laser.so">
        <topicName>scan_front</topicName>
        <frameName>lidar_front_left_link</frameName>
      </plugin>
    </sensor>
  </gazebo>

  <!-- Rear LiDAR SICK Microscan MICS3-AAAZ55AZ1P01 -->
  <gazebo reference="lidar_rear_right_link">
    <sensor type="gpu_ray" name="lidar_rear_sensor">
      <pose>0 0 0 0 0 0</pose>
      <visualize>true</visualize>
      <update_rate>40</update_rate>
      <ray>
        <scan>
          <horizontal>
            <samples>923</samples>        <!-- 360 / 0.39 -->
            <resolution>0.39</resolution> <!-- 0.39 deg = 0.0068067840828 rad -->
            <min_angle>-2.3</min_angle>
            <max_angle>2.3</max_angle>
          </horizontal>
        </scan>
        <range>
          <min>0.05</min>
          <max>40.0</max> <!-- white object -->
          <resolution>0.05</resolution> <!-- 0.03, 0.04, 0.05, 0.07, 0.15, 0.20 [mm] -->
        </range>
        <noise>
          <type>gaussian</type>
          <!-- Noise parameters based on published spec for Hokuyo laser
               achieving "+-30mm" accuracy at range < 10m.  A mean of 0.0m and
               stddev of 0.01m will put 99.7% of samples within 0.03m of the true
               reading. -->
          <mean>0.0</mean>
          <stddev>0.01</stddev>
        </noise>
      </ray>
      <plugin name="gazebo_ros_lidar_front_controller" filename="libgazebo_ros_gpu_laser.so">
        <topicName>scan_rear</topicName>
        <frameName>lidar_rear_right_link</frameName>
      </plugin>
    </sensor>
  </gazebo>

  <link name="depthcam_front_left_view_link">
    <inertial>
      <mass value="0.001"/>
      <origin xyz="0 0 0"/>
      <inertia ixx="0.000001" ixy="0.0" ixz="0.0" iyy="0.000001" iyz="0.0" izz="0.000001"/>
    </inertial>
  </link>

  <joint name="depthcam_front_left_view_joint" type="fixed">
    <parent link="depthcam_front_left_link"/>
    <child link="depthcam_front_left_view_link"/>
    <origin xyz="0.0 0.0 0.0" rpy="-1.5708 0.0 -1.5708"/>
  </joint>

  <gazebo reference="depthcam_front_left_link">
    <sensor name="depthcam_front_left" type="depth">
      <update_rate>20</update_rate>
      <camera>
        <horizontal_fov>1.52</horizontal_fov> <!-- RealSense D435 = 87 deg -->
        <vertical_fov>1.01</vertical_fov> <!-- RealSense D435 = 58 def -->
        <image>
          <width>640</width>
          <height>480</height>
          <format>R8G8B8</format>
        </image>
        <clip>
          <near>0.03</near> <!-- RealSense D435 -->
          <far>3.0</far>
        </clip>
      </camera>
      <plugin name="depthcam_front_left_controller" filename="libgazebo_ros_openni_kinect.so">
        <baseline>0.2</baseline>
        <alwaysOn>true</alwaysOn>
        <updateRate>1.0</updateRate>
        <cameraName>depthcam_front_left</cameraName>
        <imageTopicName>depthcam_front_left/color/image_raw</imageTopicName>
        <cameraInfoTopicName>depthcam_front_left/color/camera_info</cameraInfoTopicName>
        <depthImageTopicName>depthcam_front_left/depth/image_raw</depthImageTopicName>
        <depthImageInfoTopicName>depthcam_front_left/depth/camera_info</depthImageInfoTopicName>
        <pointCloudTopicName>depthcam_front_left/depth/points</pointCloudTopicName>
        <frameName>depthcam_front_left_view_link</frameName>
        <pointCloudCutoff>0.5</pointCloudCutoff>
        <pointCloudCutoffMax>3.0</pointCloudCutoffMax>
        <distortionK1>0.00000001</distortionK1>
        <distortionK2>0.00000001</distortionK2>
        <distortionK3>0.00000001</distortionK3>
        <distortionT1>0.00000001</distortionT1>
        <distortionT2>0.00000001</distortionT2>
        <CxPrime>0</CxPrime>
        <Cx>0</Cx>
        <Cy>0</Cy>
        <focalLength>0</focalLength>
        <hackBaseline>0</hackBaseline>
      </plugin>
    </sensor>
  </gazebo>

  <link name="depthcam_front_right_view_link">
    <inertial>
      <mass value="0.001"/>
      <origin xyz="0 0 0"/>
      <inertia ixx="0.000001" ixy="0.0" ixz="0.0" iyy="0.000001" iyz="0.0" izz="0.000001"/>
    </inertial>
  </link>     
     
  <joint name="depthcam_front_right_view_joint" type="fixed">
    <parent link="depthcam_front_right_link"/>
    <child link="depthcam_front_right_view_link"/>
    <origin xyz="0.0 0.0 0.0" rpy="-1.5708 0.0 -1.5708"/>
  </joint>

  <gazebo reference="depthcam_front_right_link">
    <sensor name="depthcam_front_right" type="depth">
      <update_rate>20</update_rate>
      <camera>
        <horizontal_fov>1.52</horizontal_fov> <!-- RealSense D435 = 87 deg -->
        <vertical_fov>1.01</vertical_fov> <!-- RealSense D435 = 58 def -->
        <image>
          <width>640</width>
          <height>480</height>
          <format>R8G8B8</format>
        </image>
        <clip>
          <near>0.03</near> <!-- RealSense D435 -->
          <far>3.0</far>
        </clip>
      </camera>
      <plugin name="depthcam_front_right_controller" filename="libgazebo_ros_openni_kinect.so">
        <baseline>0.2</baseline>
        <alwaysOn>true</alwaysOn>
        <updateRate>1.0</updateRate>
        <cameraName>depthcam_front_right</cameraName>
        <imageTopicName>depthcam_front_right/color/image_raw</imageTopicName>
        <cameraInfoTopicName>depthcam_front_right/color/camera_info</cameraInfoTopicName>
        <depthImageTopicName>depthcam_front_right/depth/image_raw</depthImageTopicName>
        <depthImageInfoTopicName>depthcam_front_right/depth/camera_info</depthImageInfoTopicName>
        <pointCloudTopicName>depthcam_front_right/depth/points</pointCloudTopicName>
        <frameName>depthcam_front_right_view_link</frameName>
        <pointCloudCutoff>0.5</pointCloudCutoff>
        <pointCloudCutoffMax>3.0</pointCloudCutoffMax>
        <distortionK1>0.00000001</distortionK1>
        <distortionK2>0.00000001</distortionK2>
        <distortionK3>0.00000001</distortionK3>
        <distortionT1>0.00000001</distortionT1>
        <distortionT2>0.00000001</distortionT2>
        <CxPrime>0</CxPrime>
        <Cx>0</Cx>
        <Cy>0</Cy>
        <focalLength>0</focalLength>
        <hackBaseline>0</hackBaseline>
      </plugin>
    </sensor>
  </gazebo>
     
</robot>
